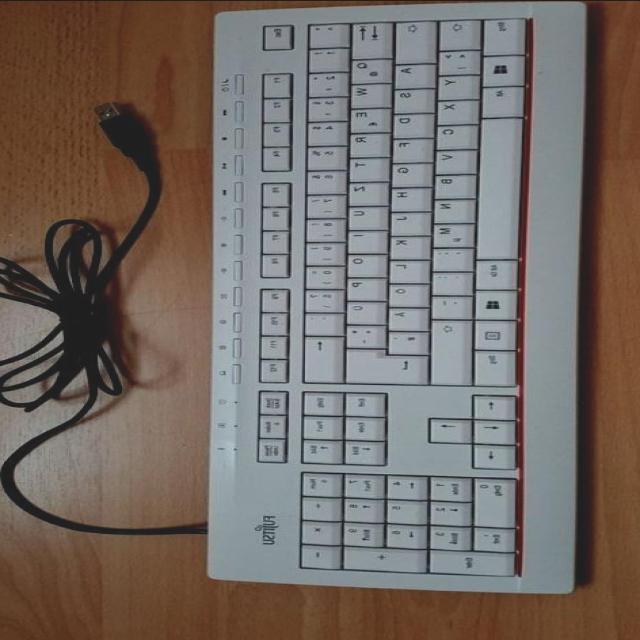0: (300, 264, 340, 286)
1: (304, 45, 344, 69)
2: (303, 70, 343, 94)
3: (302, 95, 342, 119)
4: (303, 120, 343, 142)
5: (302, 144, 342, 167)
6: (302, 167, 342, 190)
7: (301, 192, 341, 215)
8: (301, 217, 341, 239)
9: (300, 240, 340, 262)
a: (391, 62, 433, 85)
accent: (300, 311, 340, 331)
ae: (384, 306, 424, 328)
alt-left: (477, 84, 521, 114)
altgr-right: (470, 257, 514, 287)
b: (430, 172, 472, 195)
c: (431, 122, 473, 146)
caret: (304, 20, 344, 44)
comma: (427, 246, 469, 268)
d: (388, 111, 430, 134)
del: (298, 334, 338, 380)
e: (345, 106, 387, 130)
enter: (339, 346, 423, 381)
f: (388, 136, 428, 159)
g: (387, 161, 427, 183)
h: (386, 186, 426, 208)
hash: (384, 329, 424, 351)
i: (343, 228, 383, 250)
j: (386, 210, 426, 232)
k: (385, 234, 425, 256)
keyboard: (202, 0, 586, 596)
l: (385, 258, 425, 280)
less: (432, 48, 476, 72)
m: (427, 221, 471, 244)
minus: (426, 294, 466, 316)
n: (429, 197, 471, 220)
o: (342, 251, 382, 273)
oe: (384, 282, 424, 304)
p: (342, 275, 382, 297)
plus: (341, 322, 381, 345)
point: (428, 270, 468, 292)
q: (346, 56, 388, 81)
r: (345, 131, 387, 154)
s: (389, 86, 431, 109)
shift-left: (434, 16, 478, 46)
shift-lock: (389, 19, 433, 60)
shift-right: (425, 318, 467, 382)
space: (472, 117, 518, 256)
ss: (300, 287, 340, 309)
strg-left: (478, 14, 522, 52)
strg-right: (469, 348, 513, 384)
t: (345, 155, 385, 178)
tab: (348, 20, 388, 54)
u: (344, 204, 384, 226)
ue: (341, 299, 383, 321)
v: (430, 148, 472, 171)
w: (346, 81, 388, 104)
x: (433, 98, 475, 121)
y: (432, 73, 476, 97)
z: (344, 180, 384, 203)
